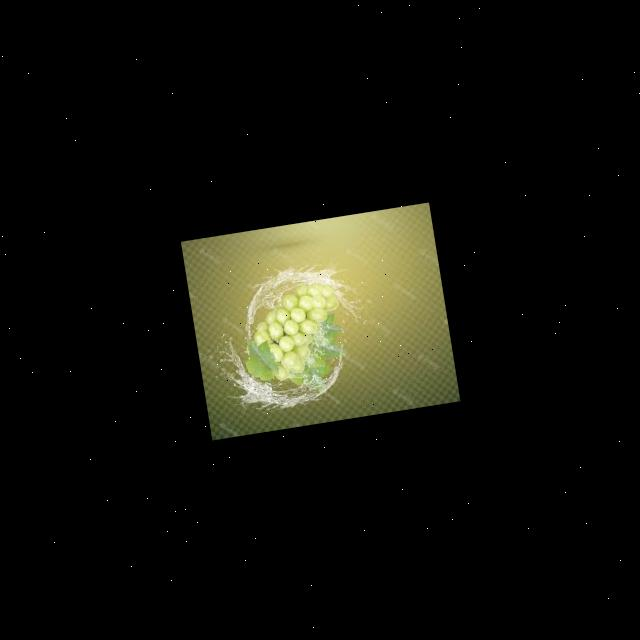grape: (245, 278, 349, 386)
